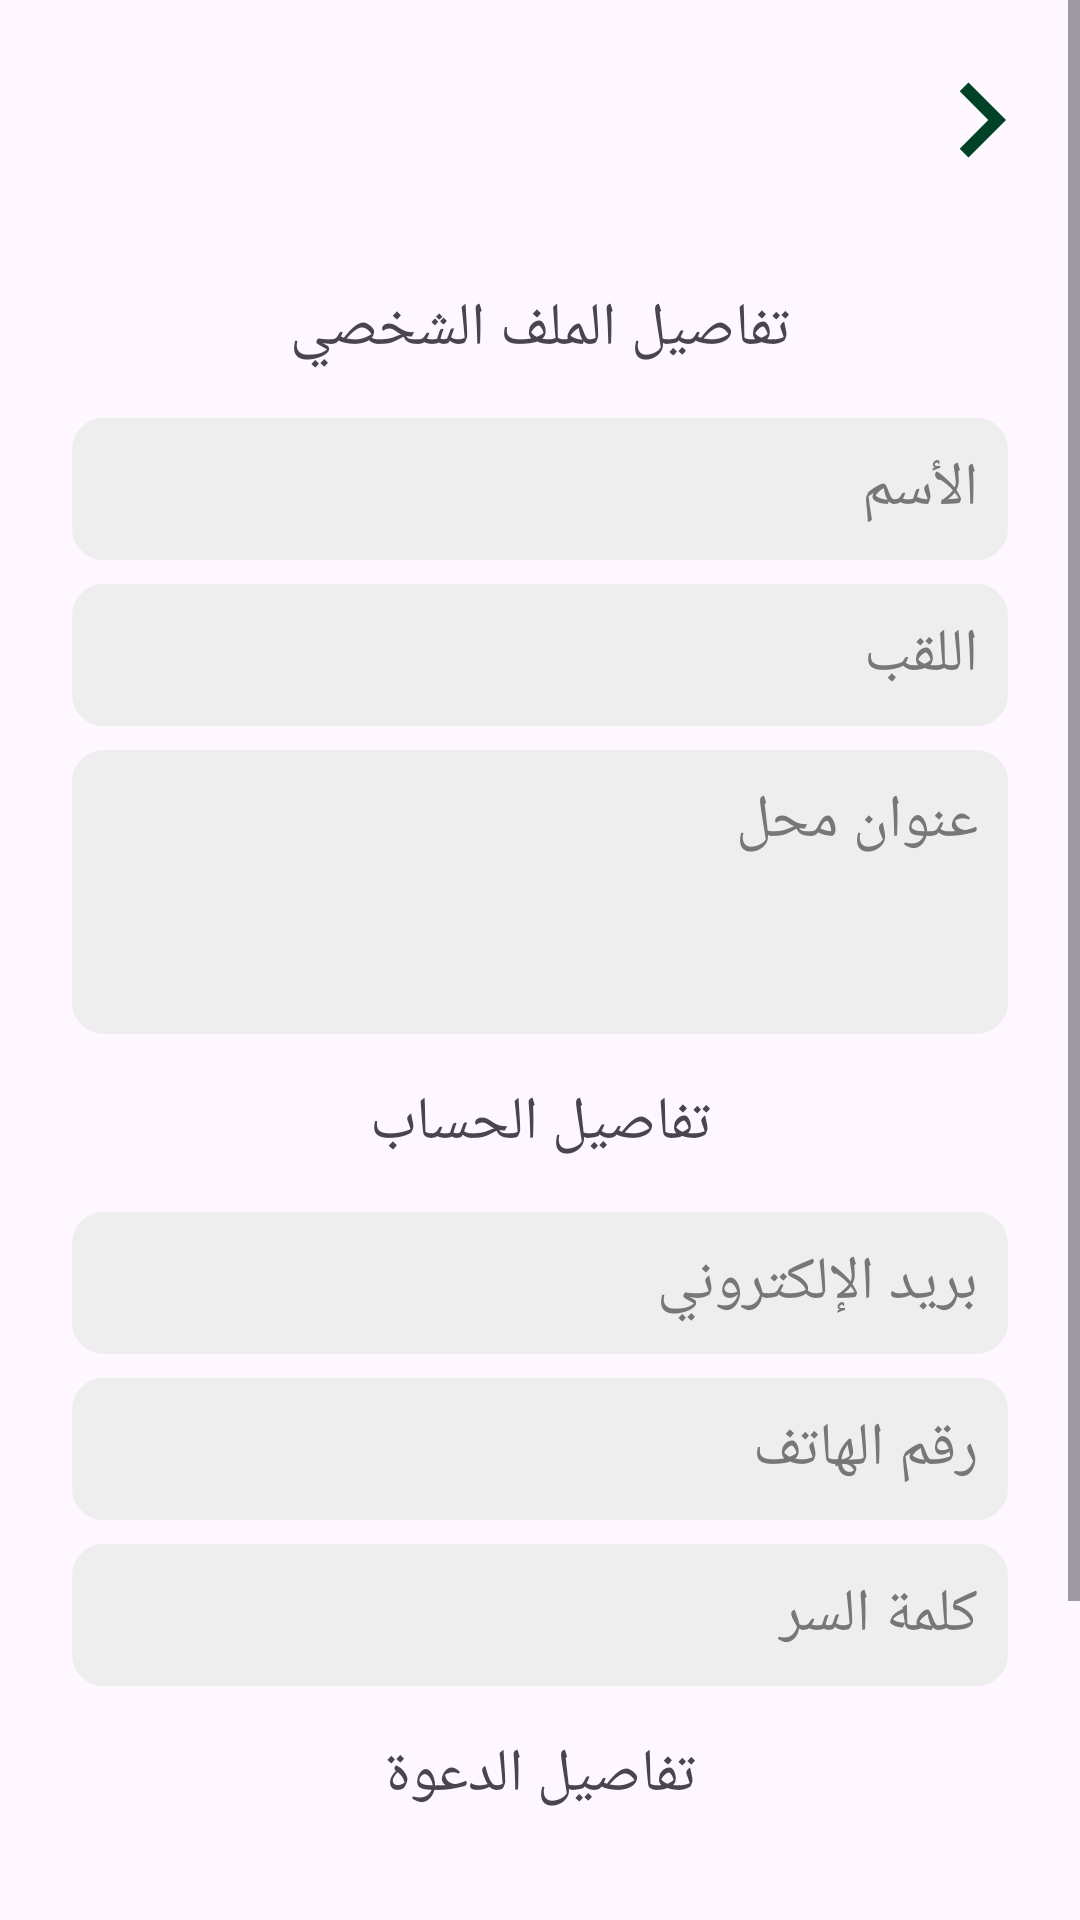

Where to tap for icons on this 1080px x 1920px app screen, as [x,y]:
chevron right: [983,120]
